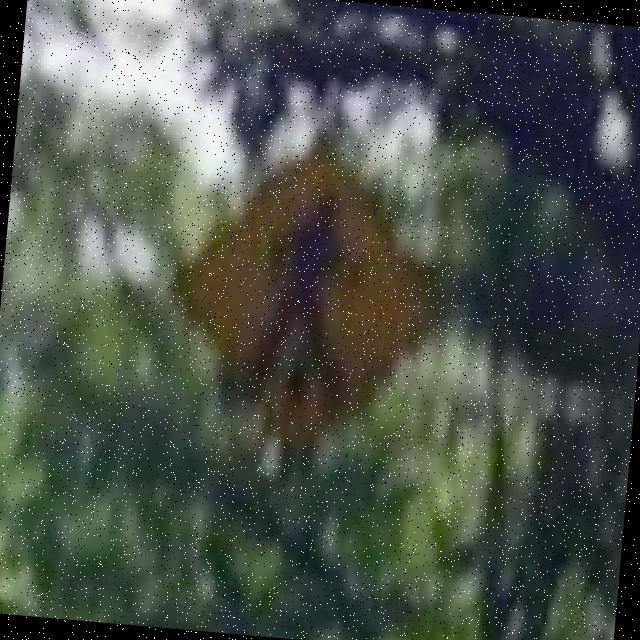Przejscie dla pieszych: (168, 136, 444, 451)
